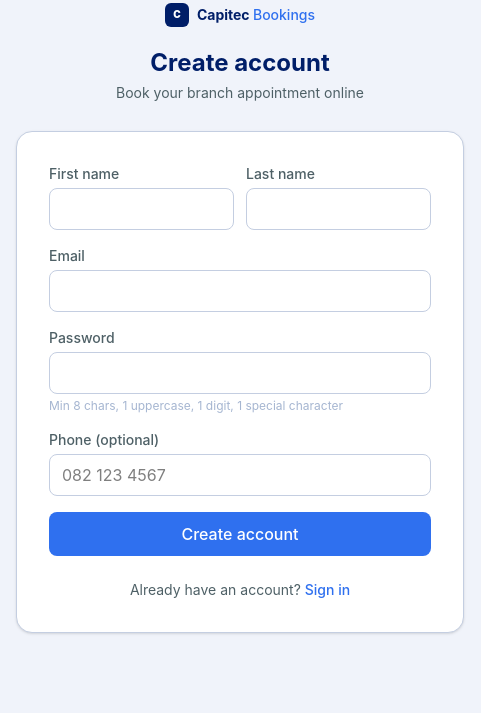
it: RegisterPage › displays field validation errors when backend returns details object
This screenshot has width=481, height=713.
Type "Test" into the field labelled "First name".
click(142, 208); type("Test")  # box [49,188,234,230]
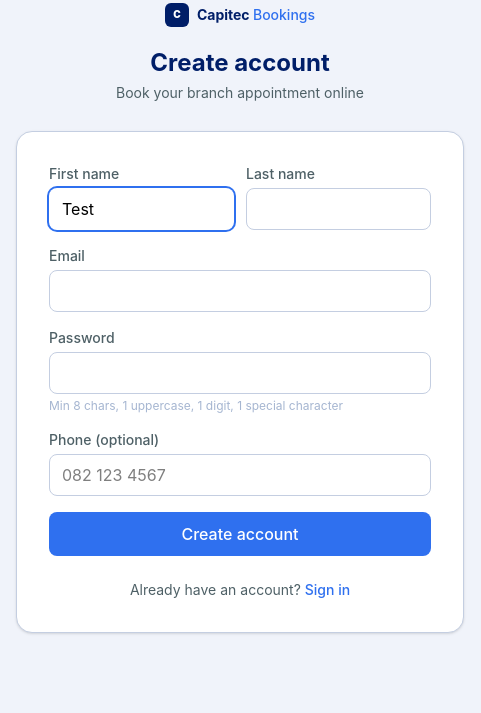
Type "User" into the field labelled "Last name".
click(338, 208); type("User")  # box [246,188,431,230]
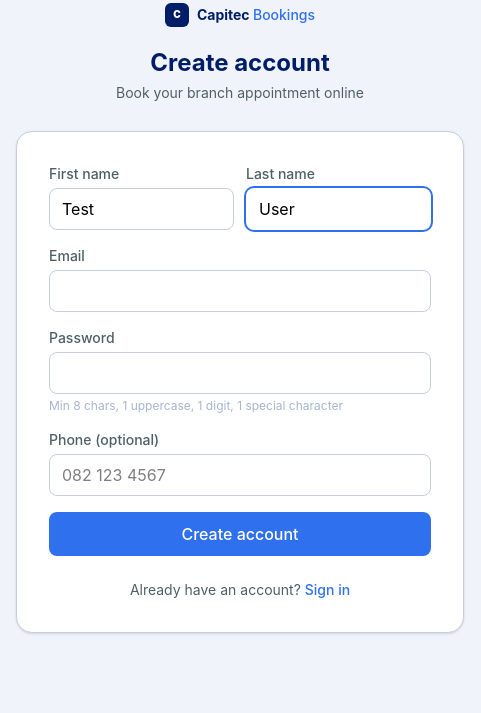
Type "test@domain.com" into the field labelled "Email".
click(240, 290); type("test@domain.com")  # box [49,270,431,312]
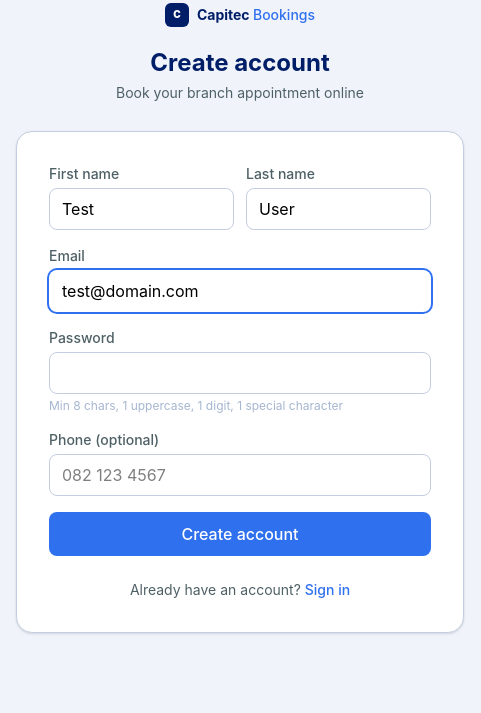
Type "Password1!" into the password field labelled "Password".
click(240, 372); type("Password1!")  # box [49,352,431,394]
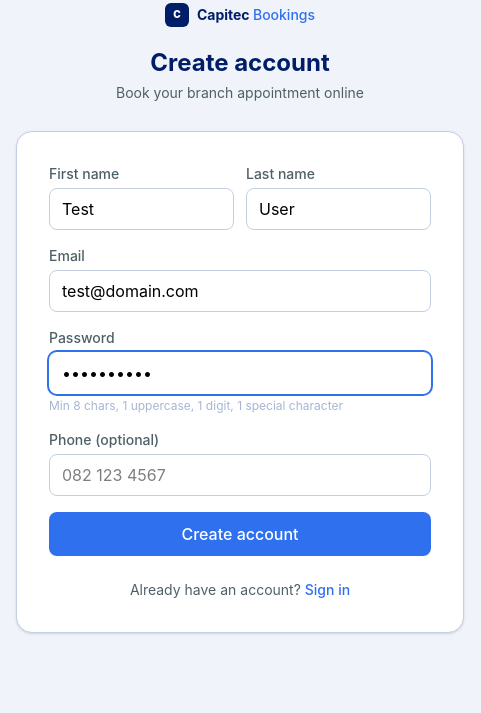
Click the button "Create account".
click(240, 534)  # box [49,512,431,556]
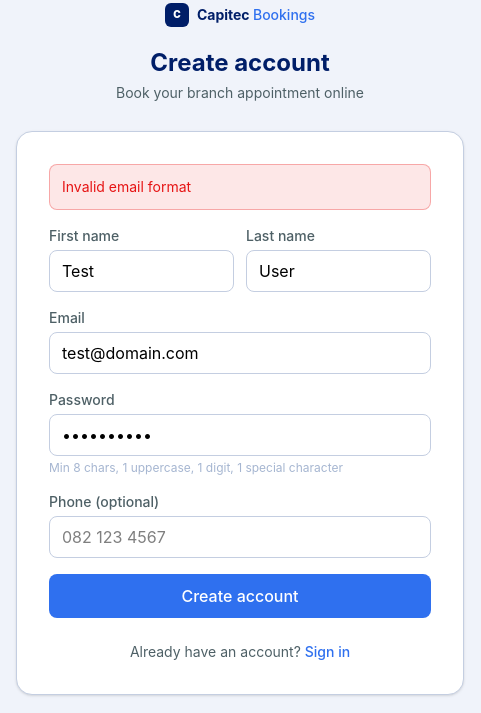
Expected: the text "Invalid email format" is shown, [49,164,431,210]
